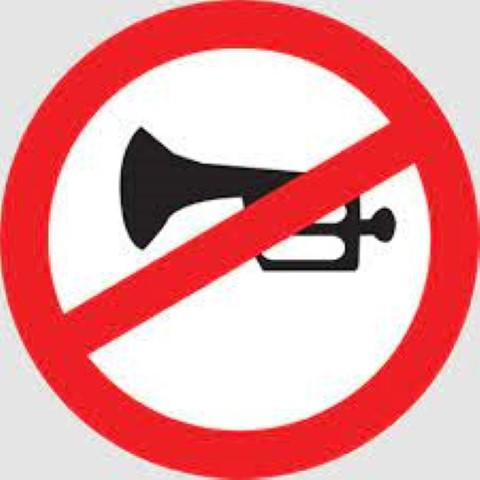Horn Prohibited: (21, 12, 462, 462)
